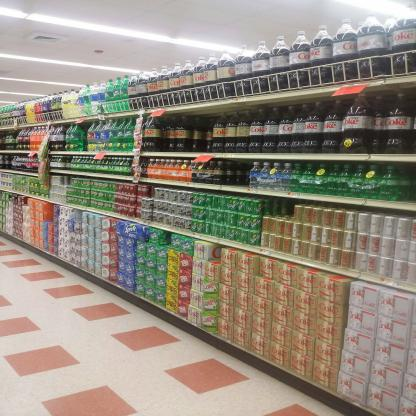Void: (400, 169, 415, 204), (230, 164, 252, 184), (272, 200, 294, 216), (212, 244, 221, 260), (162, 230, 171, 242)
